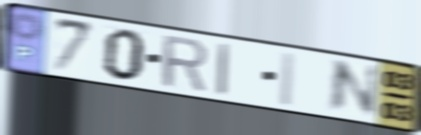0: (102, 27, 148, 83)
7: (53, 15, 95, 76)
I: (275, 49, 299, 110), (215, 41, 233, 99)
N: (325, 58, 382, 118)
R: (160, 33, 210, 95)
